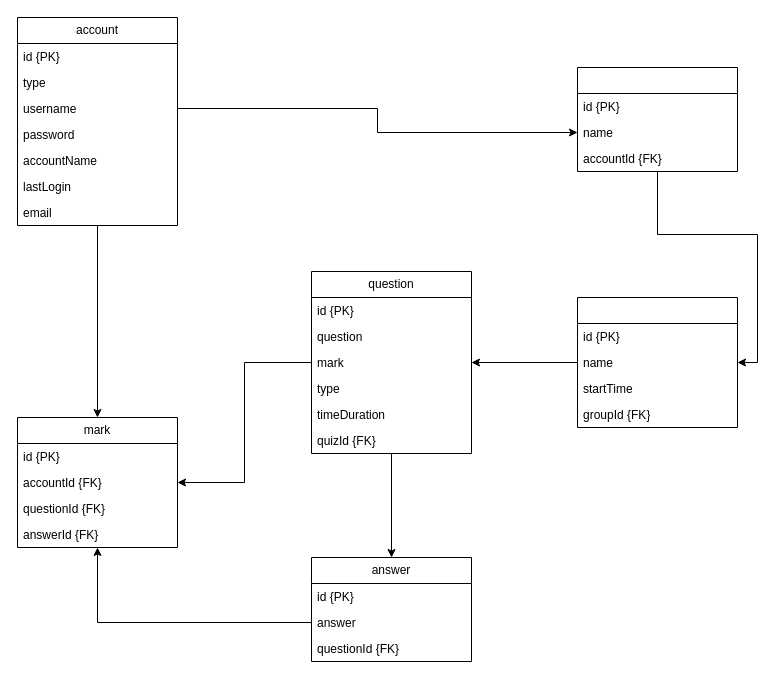
Image size: 783x682. Some labels were removed from this diagram. The shapes that lost their labels are listed below. From the top down, each one's box as (x1, y1, x2, y2) in pixels, then its label:
(576, 66, 738, 172): group
(576, 296, 738, 428): quiz
